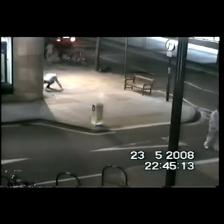person: (204, 105, 219, 150), (44, 74, 62, 90), (47, 42, 53, 63)
